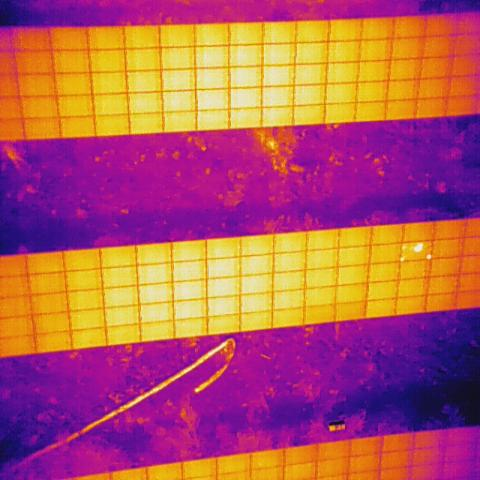fault: (411, 241, 425, 254), (426, 254, 432, 261), (401, 244, 407, 250), (400, 256, 404, 262)
